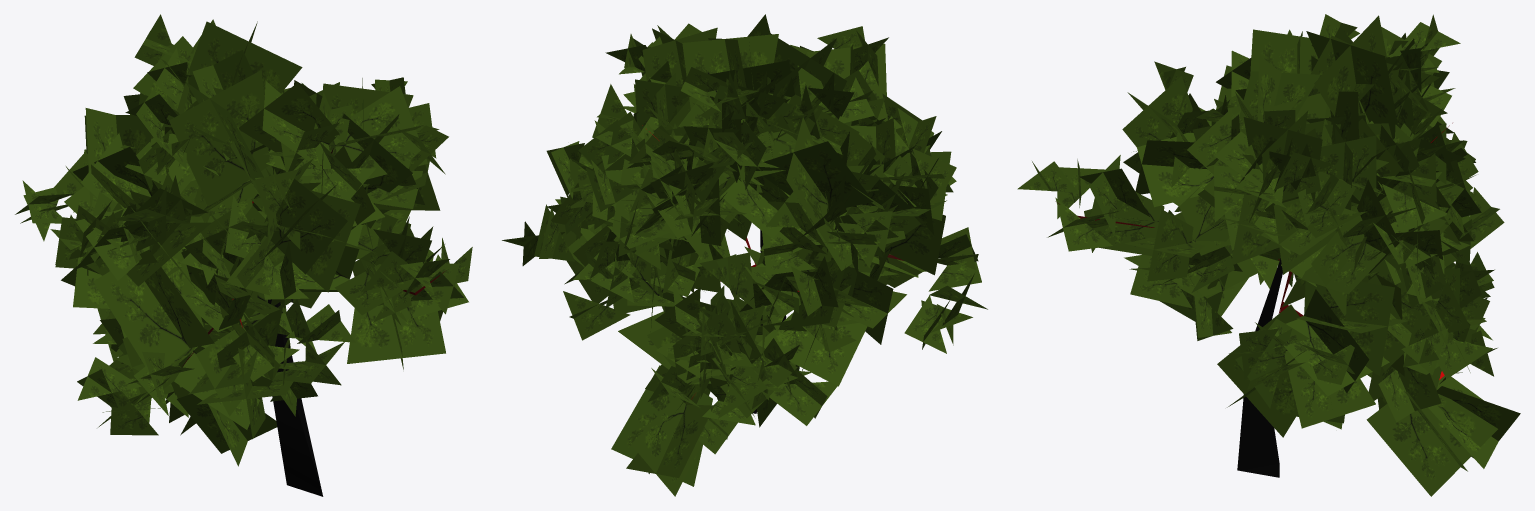
Rendered from oak4 lod3.FBX.
3 views of the same model, side by side, from view 1: azimuth 30°, elevation 25°; view 2: azimuth 150°, elevation 25°; view 3: azimuth 270°, elevation 25° (orthographic). The views are drawn at different scales.
Parts seen in each view (by area): view 1: oak 4_LOD3; view 2: oak 4_LOD3; view 3: oak 4_LOD3.
Part boxes in pixels (box(x1,y1,x2,y2)): oak 4_LOD3: box(15, 14, 472, 496); oak 4_LOD3: box(502, 14, 987, 496); oak 4_LOD3: box(1017, 14, 1520, 496).
Bounding box in the file's own units: 81275 × 84995 × 86335.
